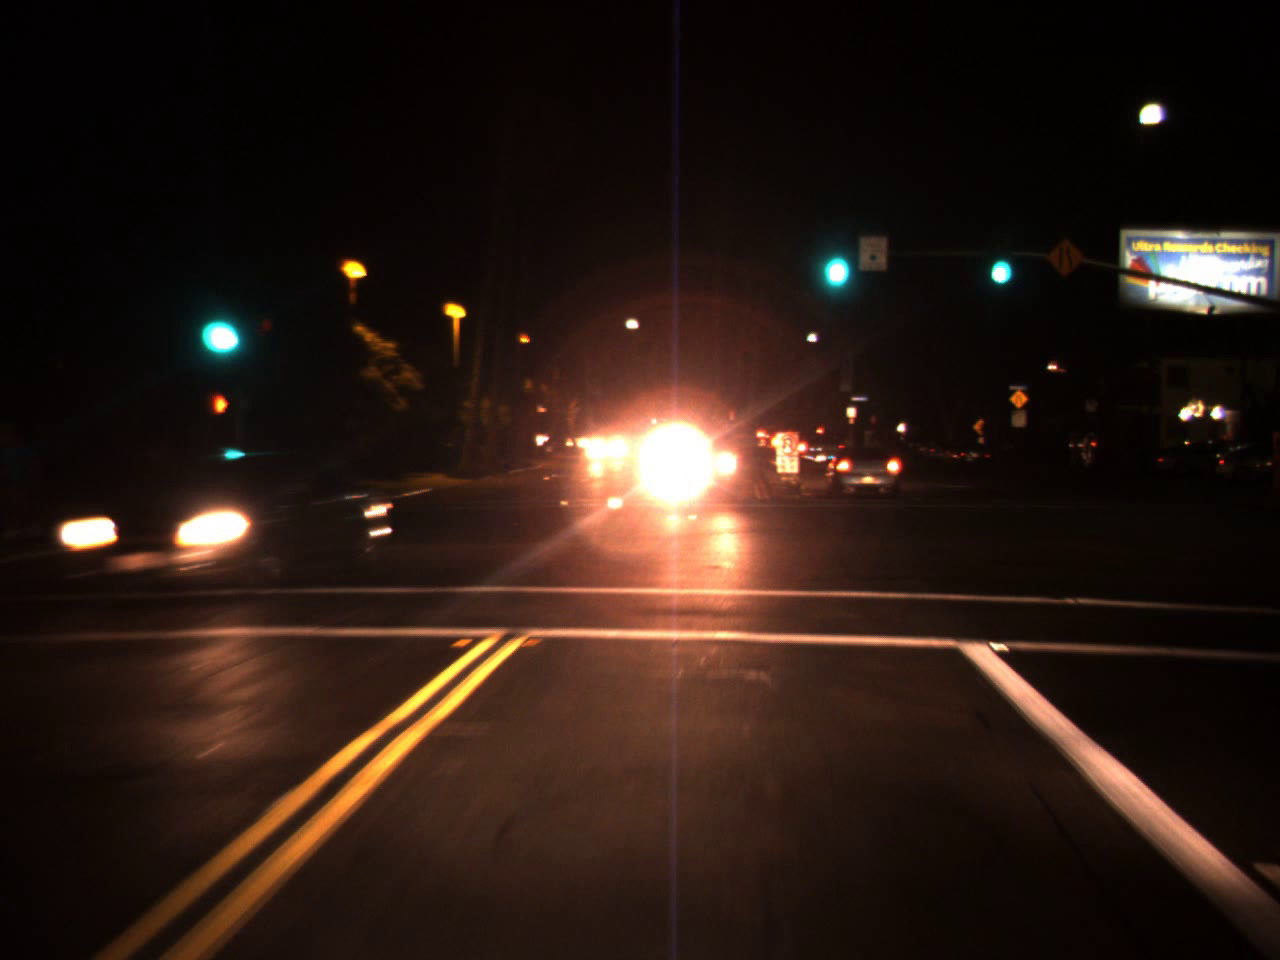go: (195, 284, 245, 365), (815, 218, 854, 299), (986, 230, 1014, 293)
